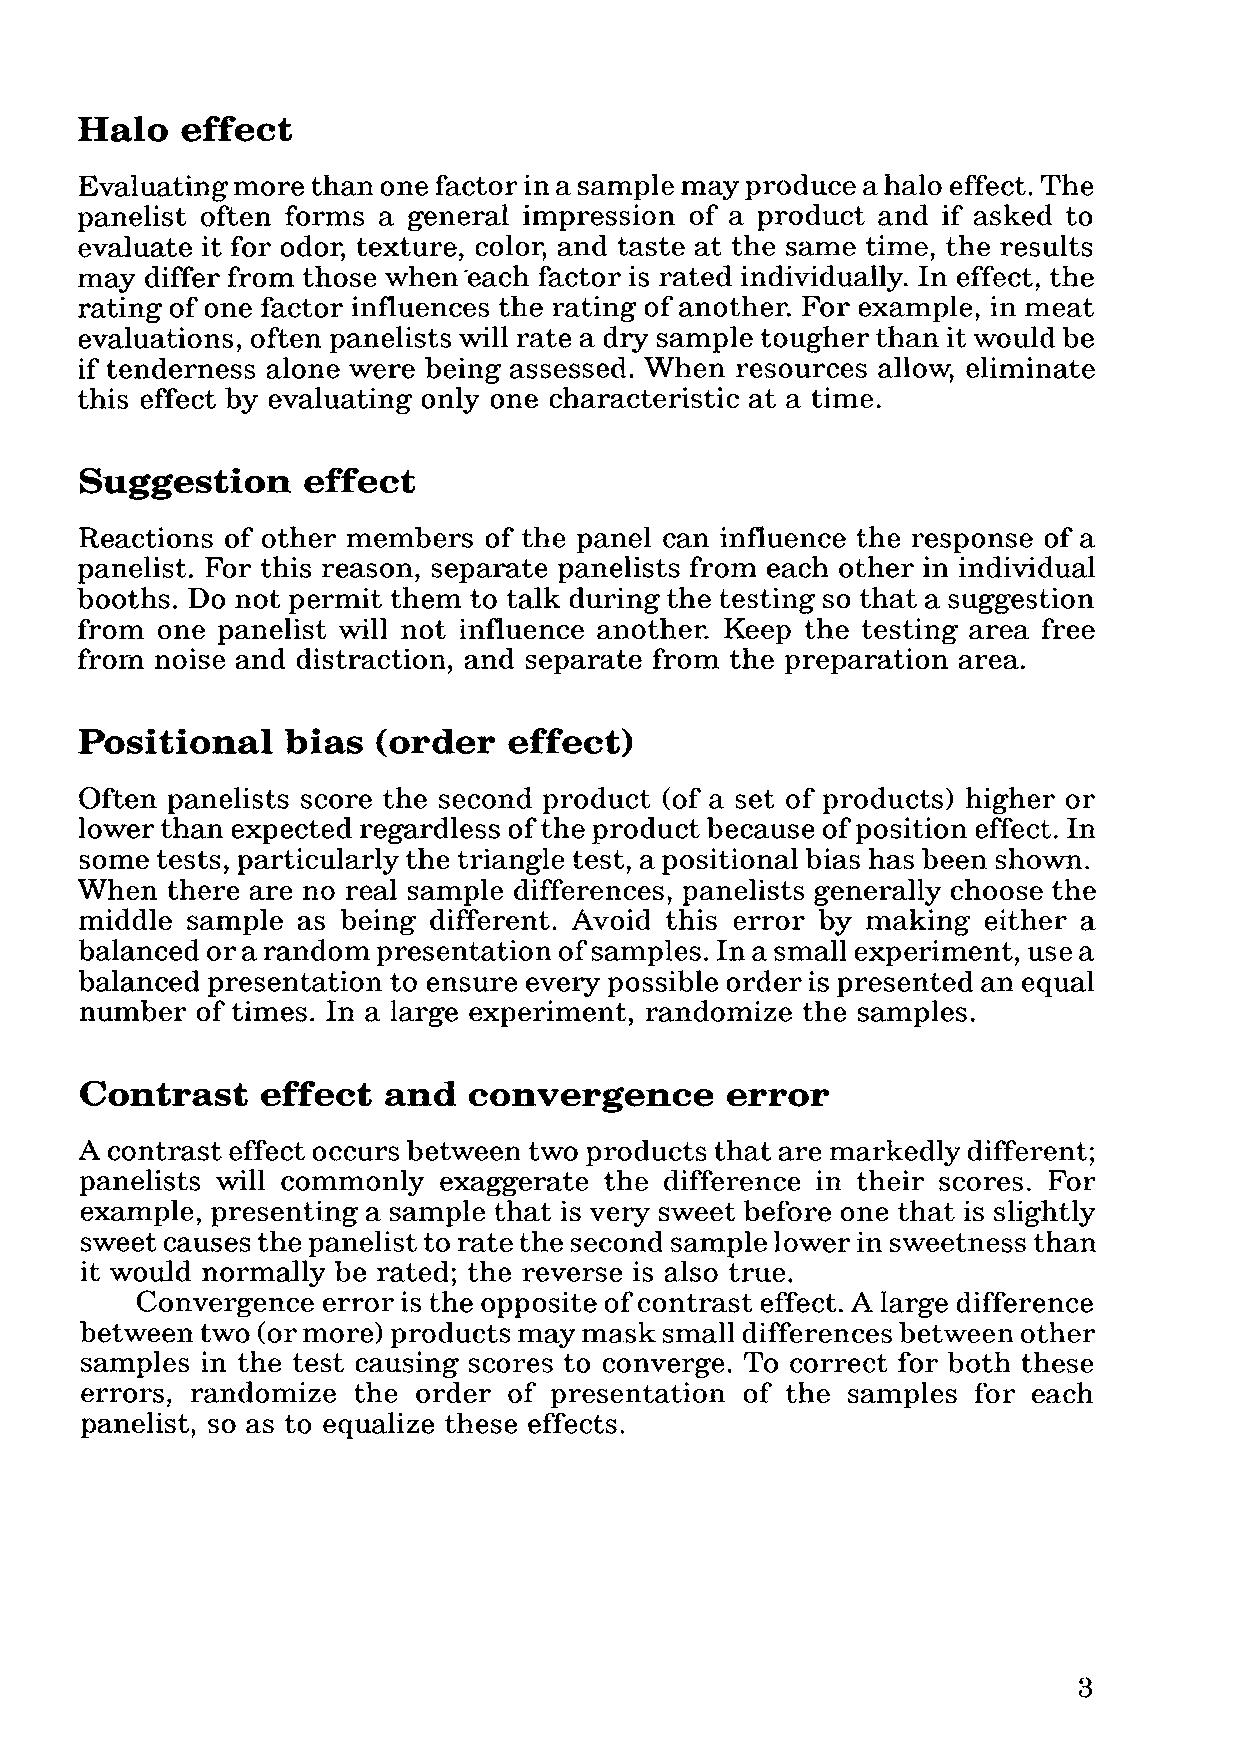chapter: (76, 1071, 835, 1117), (74, 719, 637, 765), (76, 463, 419, 497), (67, 107, 305, 148)
content: (76, 1135, 1100, 1435), (74, 778, 1100, 1033), (70, 166, 1094, 416), (74, 518, 1098, 675)
content_pagenumber: (1074, 1667, 1100, 1704)
